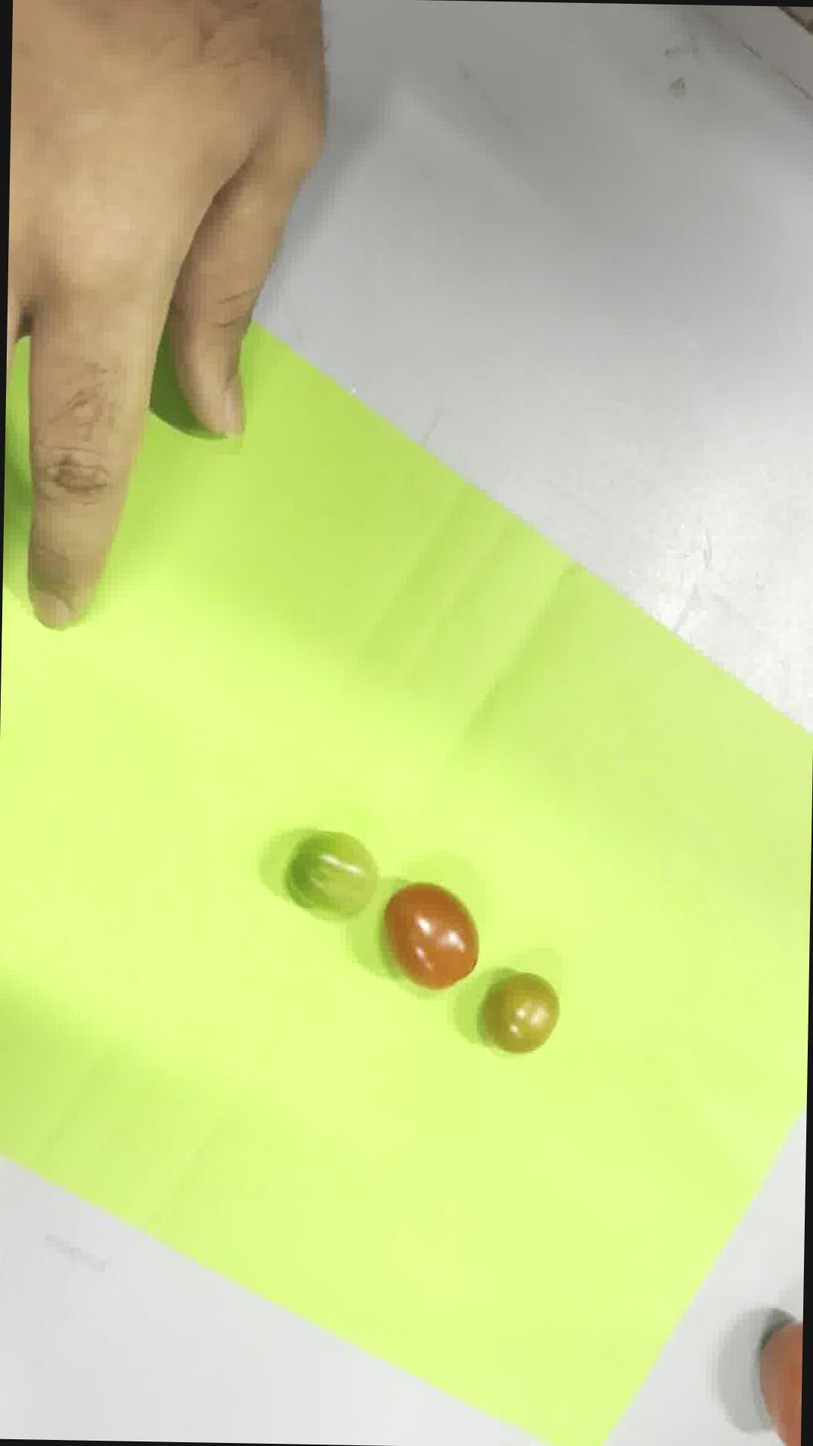green_cherry_tomato: (284, 829, 377, 919)
red_cherry_tomato: (383, 883, 478, 990)
yellow_cherry_tomato: (481, 972, 559, 1054)
